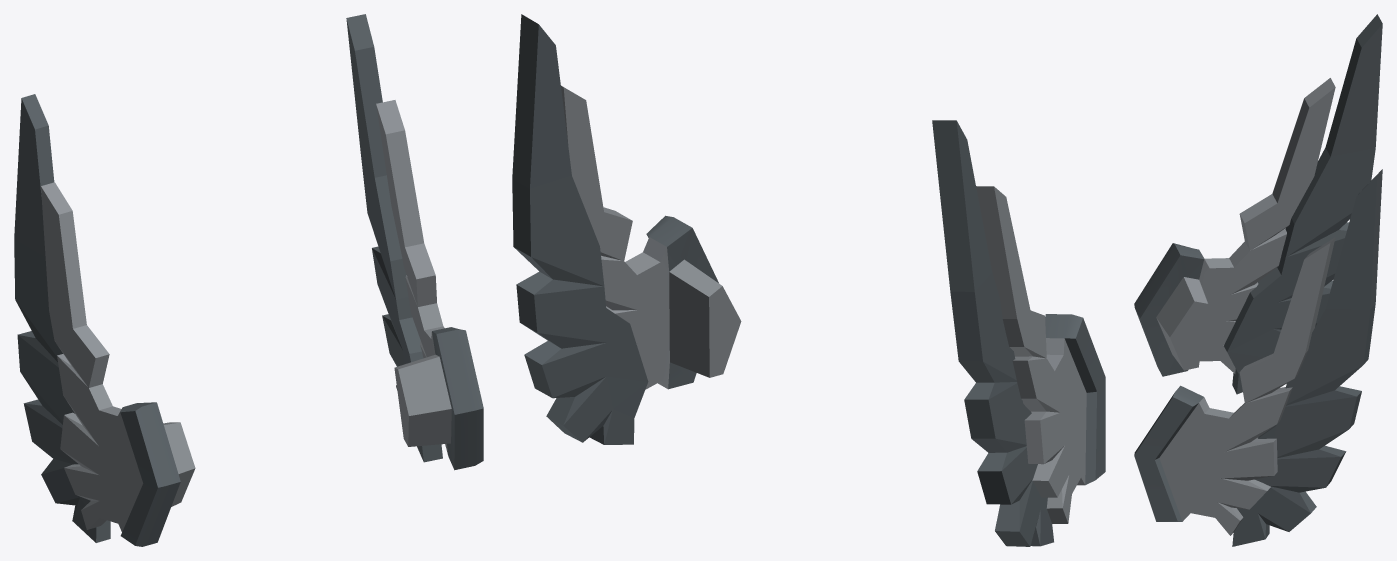
The model's file is Chr_HelmetAttachment_03_Static.fbx.
3 renders of one model, left to right at view 1: azimuth 30°, elevation 25°; view 2: azimuth 150°, elevation 25°; view 3: azimuth 270°, elevation 25°, orthographic. The views are drawn at different scales.
Parts seen in each view (by area): view 1: Chr_HelmetAttachment_03_Static; view 2: Chr_HelmetAttachment_03_Static; view 3: Chr_HelmetAttachment_03_Static.
Part boxes in pixels (x1,y1,x2,y2): Chr_HelmetAttachment_03_Static: [14, 14, 483, 546]; Chr_HelmetAttachment_03_Static: [512, 14, 1105, 546]; Chr_HelmetAttachment_03_Static: [1134, 14, 1382, 546].
Bounding box in the file's own units: 0.338 × 0.3342 × 0.2016.
